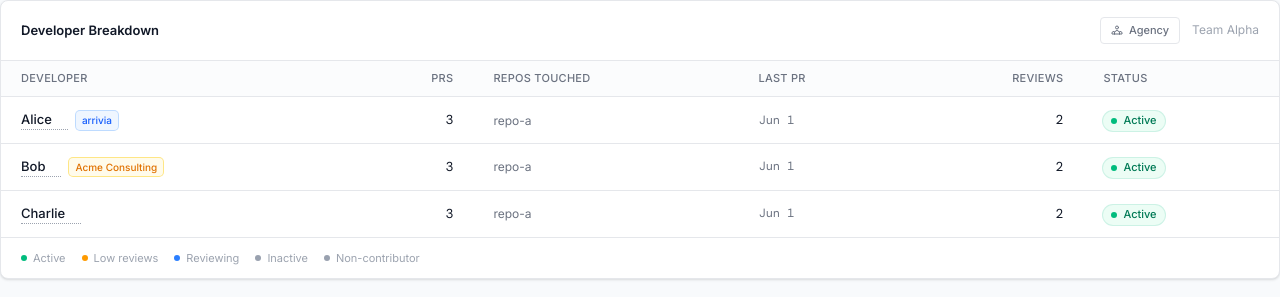
Test: MemberTable › agency filter dropdown › filters table to only matching members when agency selected
The width and height of the screenshot is (1280, 297).
Expected: the button "Alice" is shown, [21, 110, 68, 130]
Expected: the button "Bob" is shown, [21, 157, 61, 177]
Select arrivia (FTE) — click the dropdown item (text-[12px] span inside the dropdown)
Click the button "Agency": [1140, 30] box [1100, 17, 1180, 44]
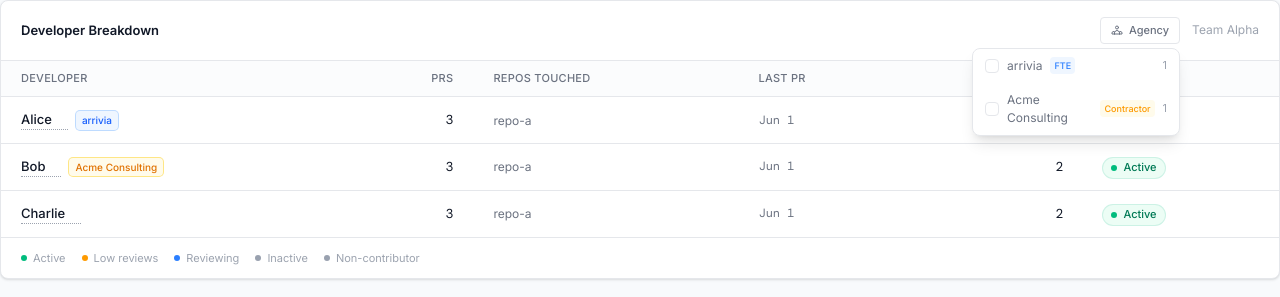
Click the menu item "arrivia FTE 1": [1076, 66] box [973, 48, 1179, 82]
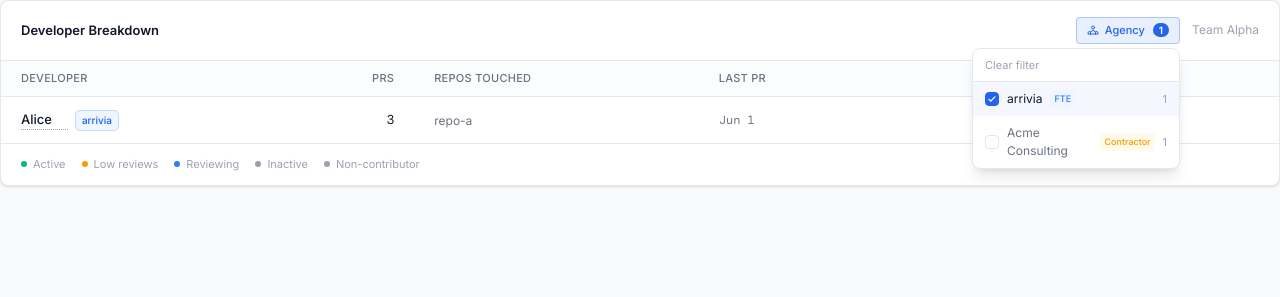
Expected: the button "Alice" is shown, [21, 110, 68, 130]
Expected: the button "Bob" is gone
Expected: the button "Charlie" is gone
